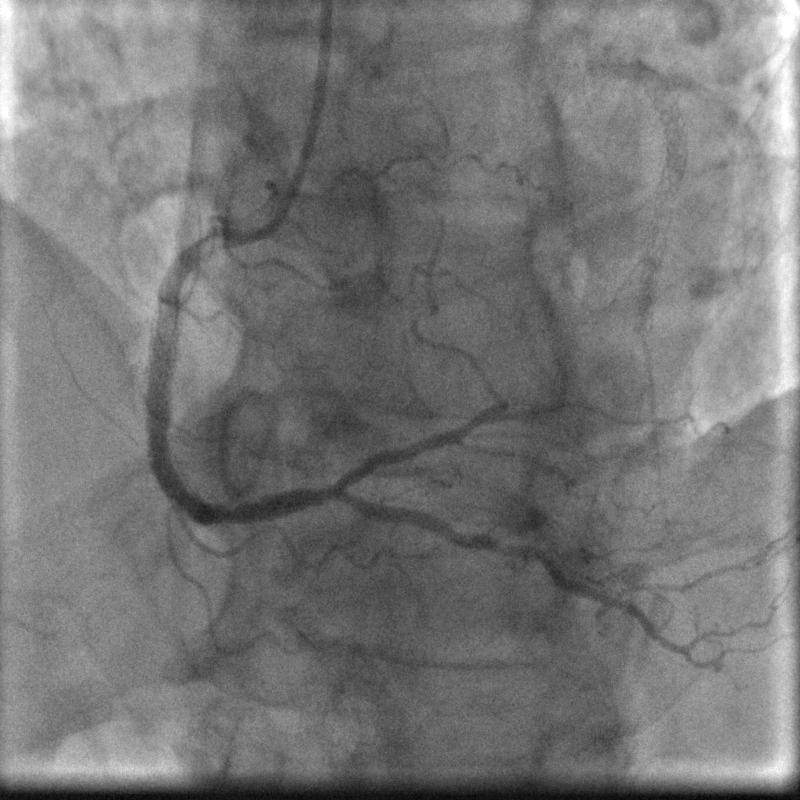Stenosis: (177, 225, 238, 262)
